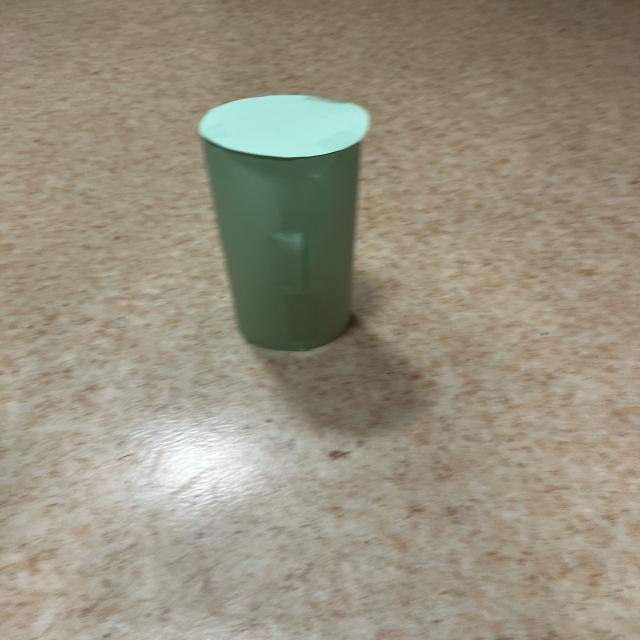meta: (198, 95, 371, 351)
